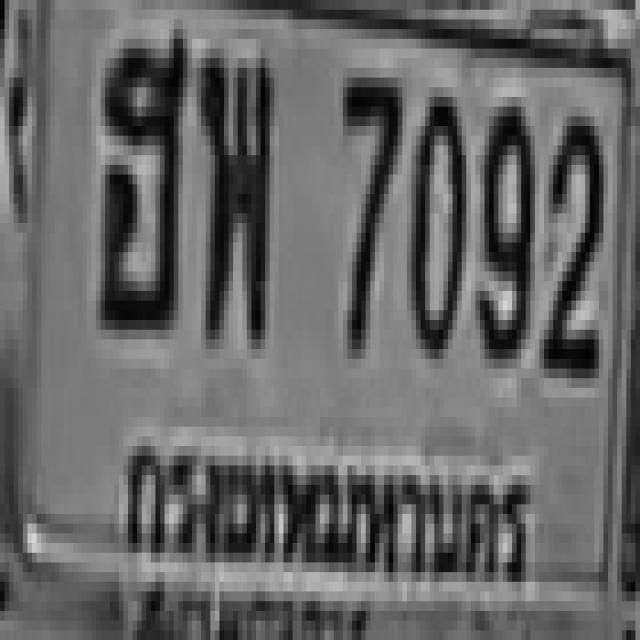0: (407, 87, 462, 349)
2: (539, 106, 599, 368)
39PhorPan: (197, 48, 270, 340)
53HorNokHook: (96, 29, 183, 320)
7: (338, 68, 398, 349)
9: (471, 102, 530, 354)
Bangkok: (105, 406, 543, 608)
